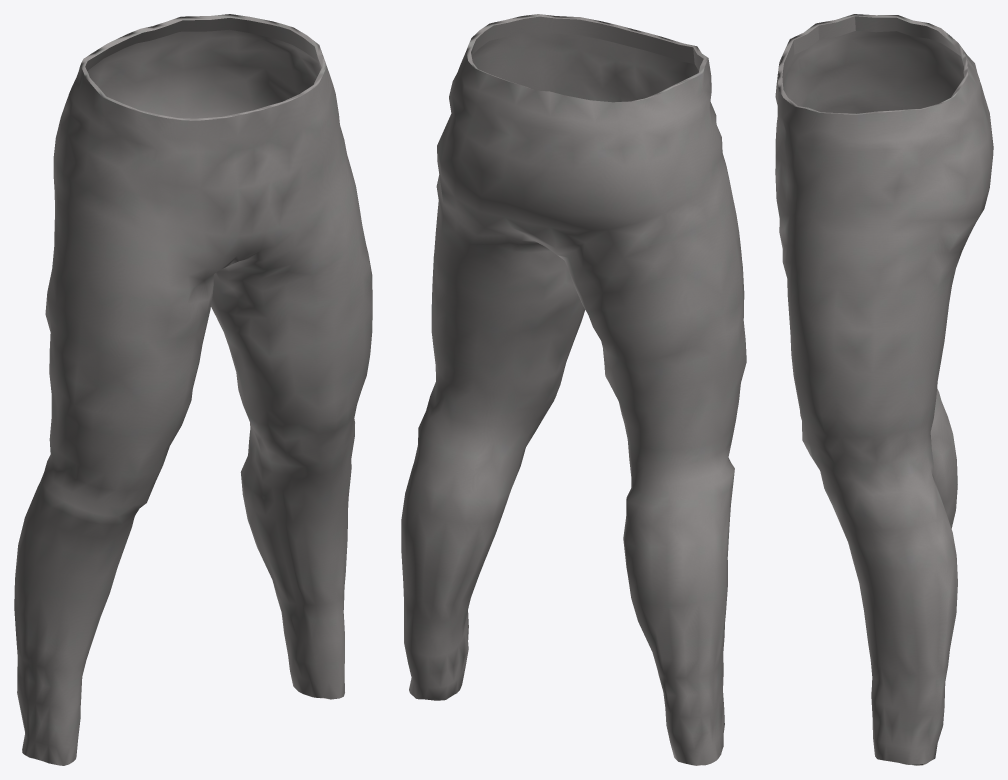
3 views of the same model, side by side, from view 1: azimuth 30°, elevation 25°; view 2: azimuth 150°, elevation 25°; view 3: azimuth 270°, elevation 25° (orthographic). The views are drawn at different scales.
Visible parts, largest first — view 1: pants_low; view 2: pants_low; view 3: pants_low.
Part boxes in pixels (x1=…): pants_low: x1=14, y1=14, x2=372, y2=765; pants_low: x1=401, y1=14, x2=746, y2=765; pants_low: x1=775, y1=14, x2=993, y2=765.
Size of the model in its own units: 2.09 by 4.2 by 1.31.
Materials: 1 (1 with a texture image).
